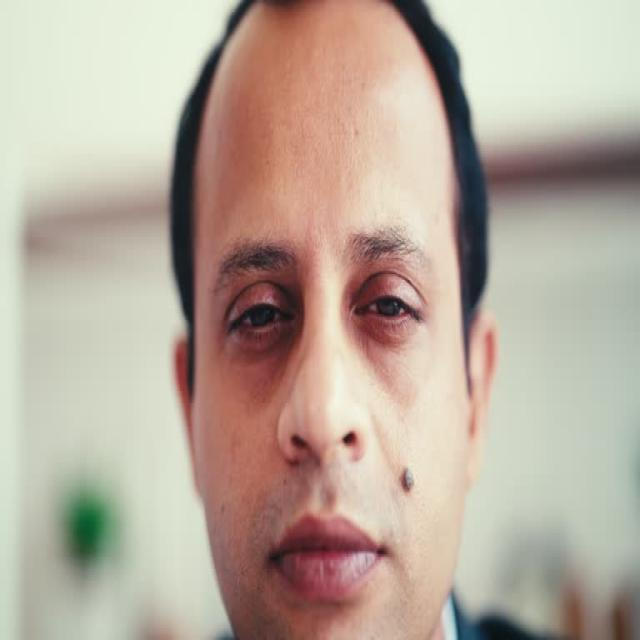no_dark_circle: (366, 318, 429, 366), (229, 330, 294, 370)
